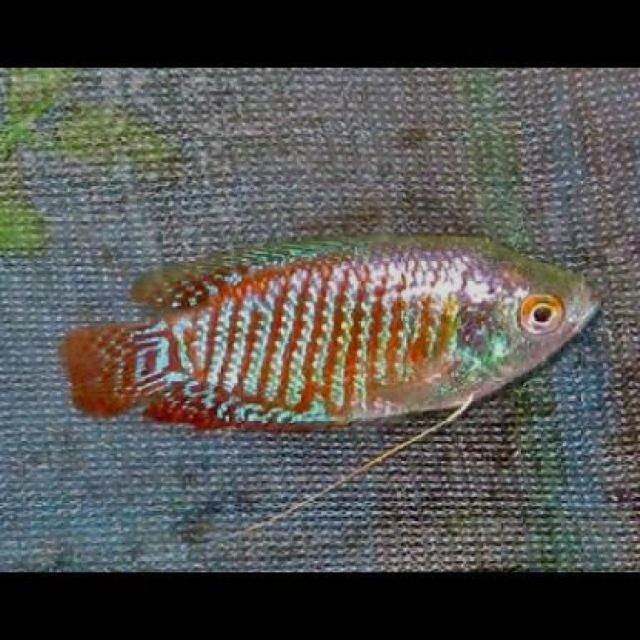Gourami: (56, 226, 606, 445)
